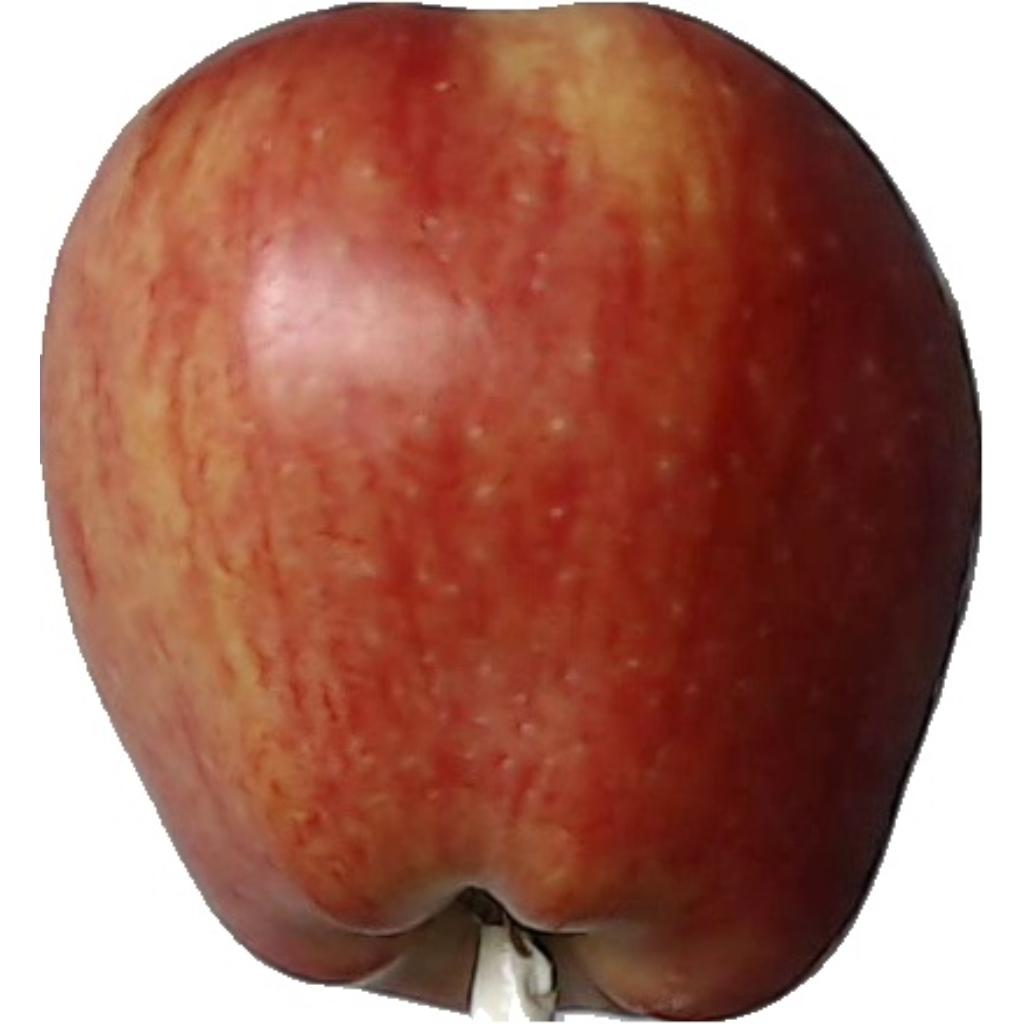apple: (40, 5, 985, 1024)
